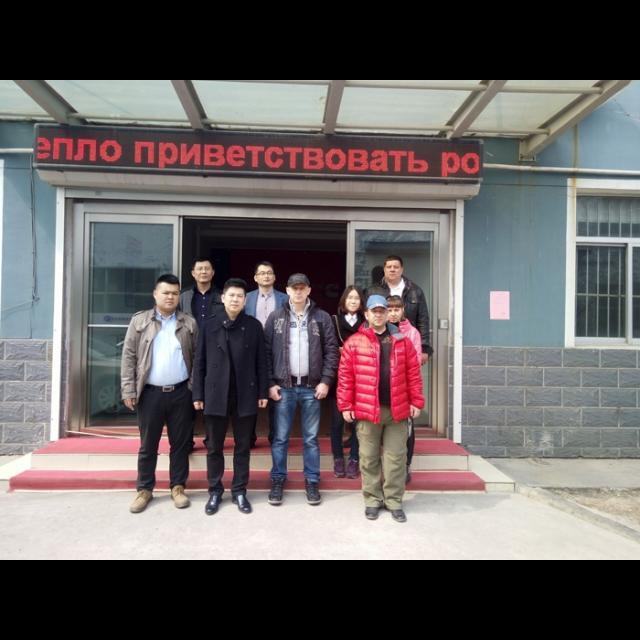head: (220, 278, 250, 314), (153, 276, 181, 312), (365, 298, 391, 328), (286, 278, 314, 304), (190, 258, 218, 284), (254, 262, 278, 288), (383, 255, 405, 283), (386, 297, 406, 325), (344, 286, 364, 314)
person: (116, 272, 206, 518), (332, 294, 428, 524), (189, 278, 269, 516), (260, 272, 340, 508), (362, 252, 434, 452), (170, 256, 232, 458), (237, 260, 296, 460), (326, 280, 378, 480), (373, 294, 425, 486)
